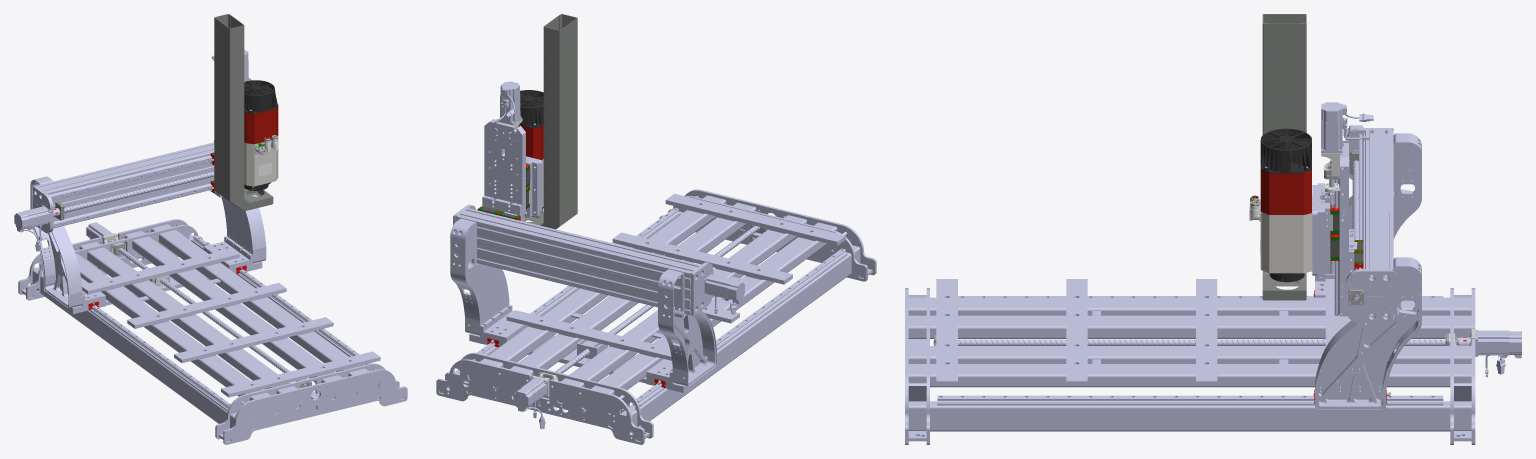
Rendered from cnc-transformed.glb.
3 renders of one model, left to right at view 1: azimuth 30°, elevation 25°; view 2: azimuth 150°, elevation 25°; view 3: azimuth 270°, elevation 25°, orthographic. The views are drawn at different scales.
Parts seen in each view (by area): view 1: Body1.077; view 2: Body1.077; view 3: Body1.077.
Part boxes in pixels (x1,y1,x2,y2): Body1.077: (14, 14, 407, 444); Body1.077: (436, 14, 876, 444); Body1.077: (905, 14, 1521, 444).
Bounding box in the file's own units: 1.1 × 1.24 × 1.73.
1 material, 1 textured.
